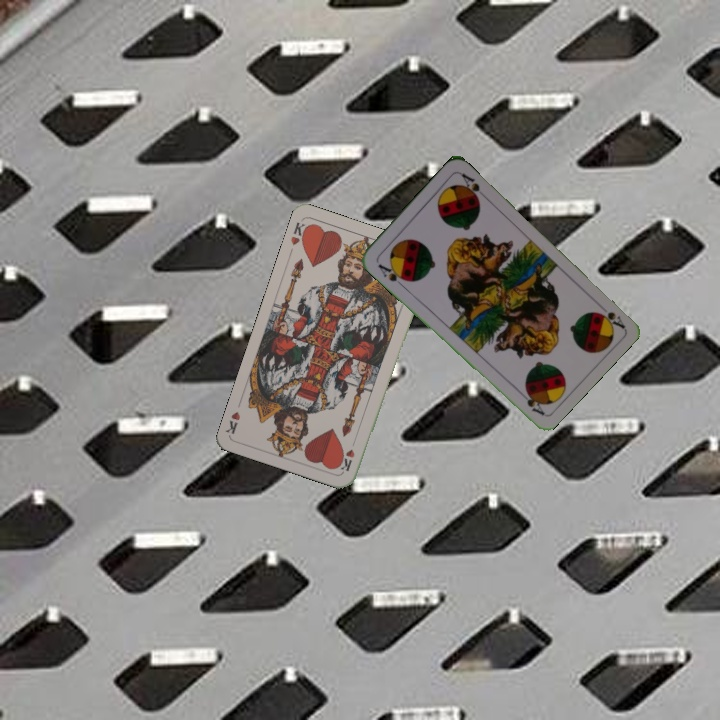HK: (336, 434, 359, 474), (286, 217, 312, 248)
SA: (374, 260, 410, 290), (594, 308, 627, 331)
